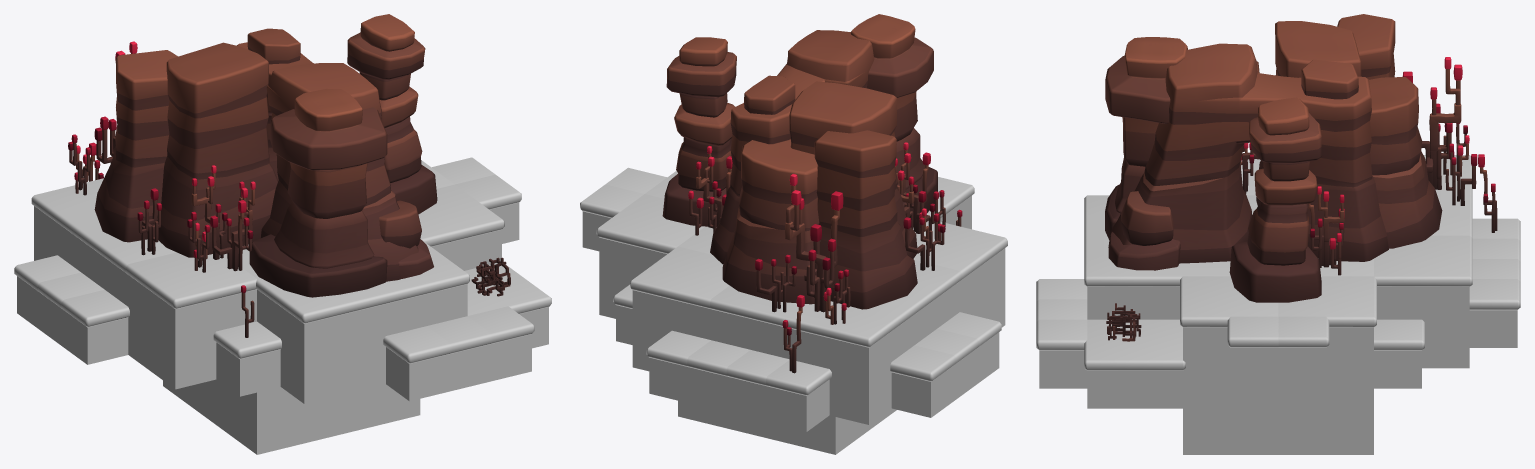
The model's file is sample_island_3.fbx.
3 renders of one model, left to right at view 1: azimuth 30°, elevation 25°; view 2: azimuth 150°, elevation 25°; view 3: azimuth 270°, elevation 25°, orthographic. The views are drawn at different scales.
Visible parts, largest first — view 1: rock_formation_rock, rock_formation_floor, rock_formation_sand; view 2: rock_formation_rock, rock_formation_floor, rock_formation_sand; view 3: rock_formation_rock, rock_formation_floor, rock_formation_sand.
Boxes of the visible parts, left/top/right/bottom form: rock_formation_rock: left=68, top=14, right=510, bottom=337; rock_formation_floor: left=17, top=202, right=548, bottom=454; rock_formation_sand: left=14, top=157, right=551, bottom=363; rock_formation_rock: left=662, top=14, right=962, bottom=373; rock_formation_floor: left=582, top=195, right=1005, bottom=454; rock_formation_sand: left=580, top=167, right=1007, bottom=395; rock_formation_rock: left=1105, top=14, right=1497, bottom=341; rock_formation_floor: left=1039, top=287, right=1517, bottom=454; rock_formation_sand: left=1036, top=155, right=1520, bottom=370.
Size of the model in its own units: 2025 by 1649 by 2025.
